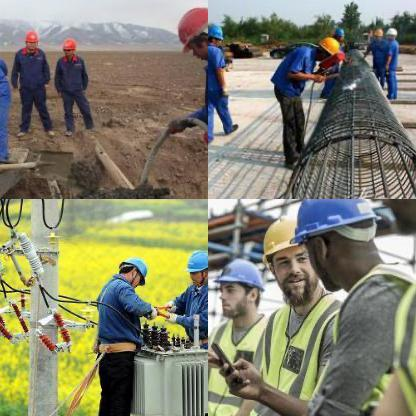Helmet: (282, 199, 390, 291), (262, 212, 320, 304), (215, 254, 269, 318), (169, 1, 207, 61), (115, 252, 148, 286), (183, 247, 207, 286), (314, 34, 340, 63), (20, 26, 38, 50), (58, 36, 78, 56), (208, 21, 223, 45), (384, 24, 398, 40), (332, 24, 344, 38), (372, 26, 382, 38)
